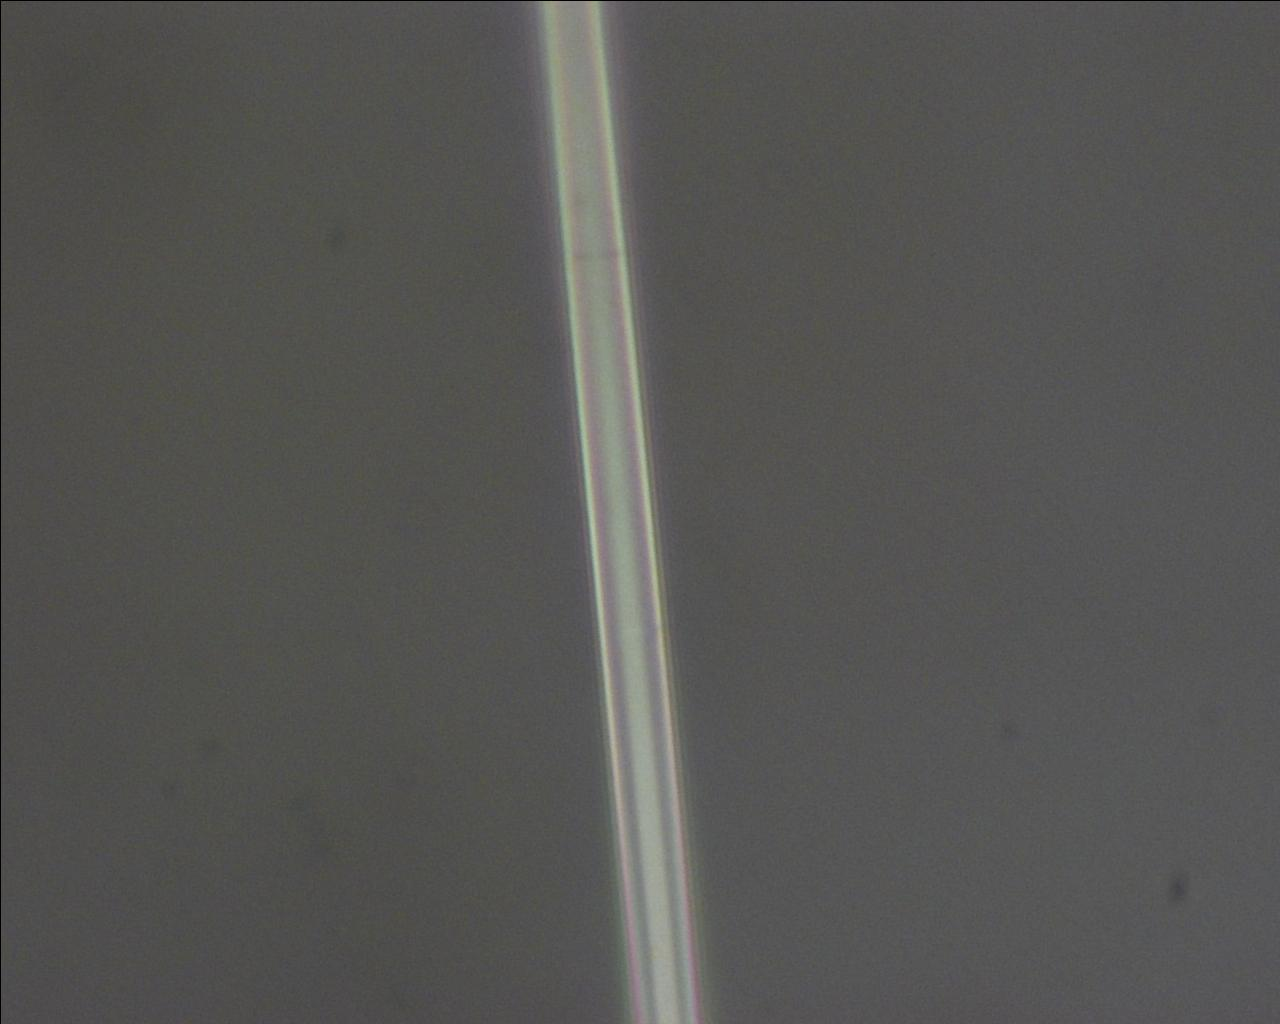fiber: (536, 0, 706, 1024)
